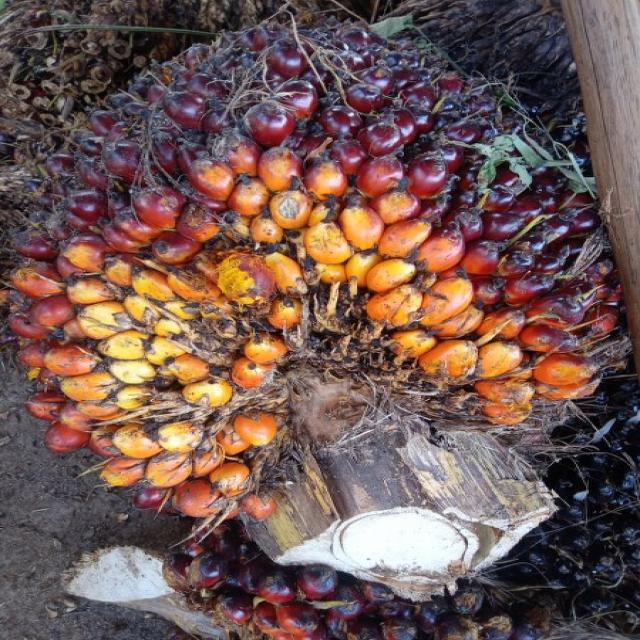fraksi 1: (0, 11, 640, 560)
